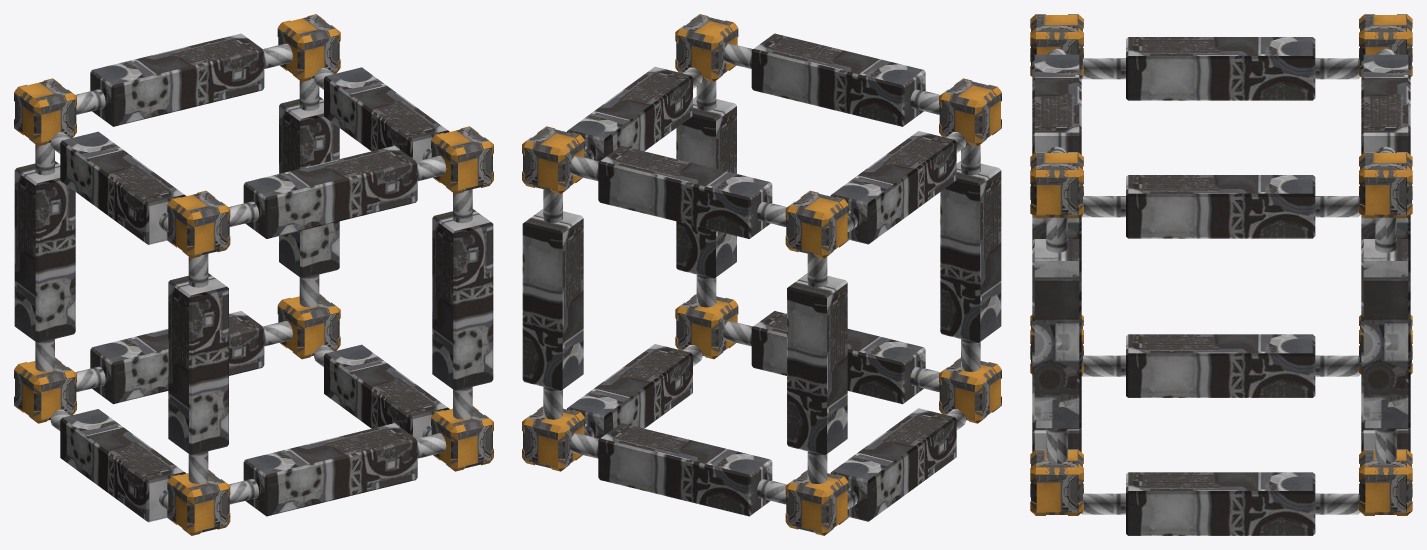
Rendered from scifisquarewhite.glb.
The picture shows the model from 3 angles, left to right: view 1: azimuth 30°, elevation 25°; view 2: azimuth 150°, elevation 25°; view 3: azimuth 270°, elevation 25°; orthographic projection. The views are drawn at different scales.
Visible parts, largest first — view 1: SciFiSquareWhite; view 2: SciFiSquareWhite; view 3: SciFiSquareWhite.
Boxes of the visible parts, x1,y1,x2,y2 form: SciFiSquareWhite: [14, 14, 493, 535]; SciFiSquareWhite: [522, 14, 1001, 535]; SciFiSquareWhite: [1030, 14, 1412, 535].
Bounding box in the file's own units: 4.83 × 5.12 × 4.86.
Materials: 2 (2 with a texture image).
